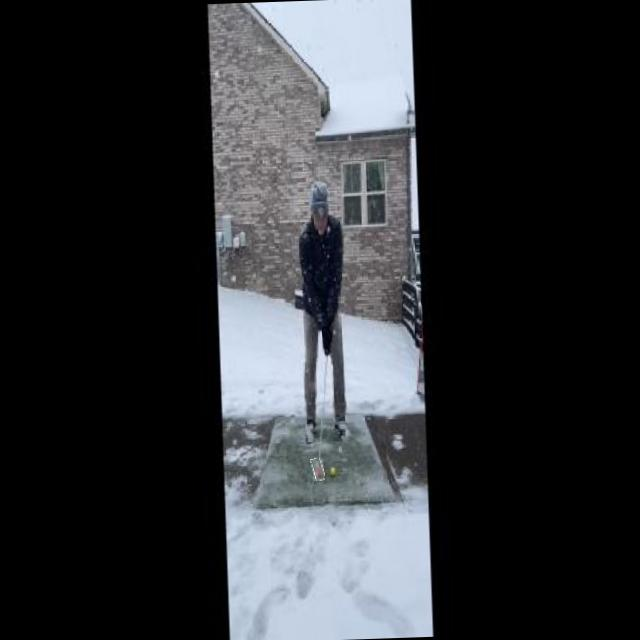club head: (312, 458, 324, 480)
